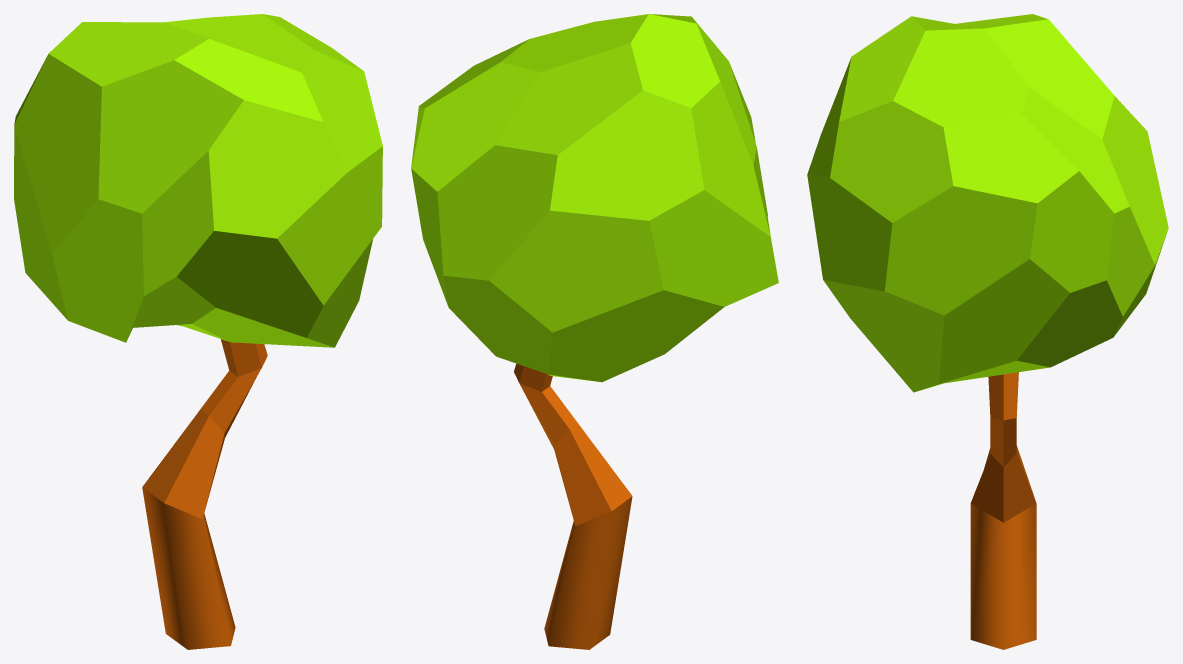
The model's file is tree1.glb.
3 views of the same model, side by side, from view 1: azimuth 30°, elevation 25°; view 2: azimuth 150°, elevation 25°; view 3: azimuth 270°, elevation 25° (orthographic). The views are drawn at different scales.
Visible parts, largest first — view 1: Hedra001, Cylinder002; view 2: Hedra001, Cylinder002; view 3: Hedra001, Cylinder002.
Boxes of the visible parts, x1,y1,x2,y2 form: Hedra001: [14, 14, 382, 347]; Cylinder002: [142, 339, 267, 649]; Hedra001: [411, 14, 778, 382]; Cylinder002: [514, 363, 632, 649]; Hedra001: [807, 14, 1168, 392]; Cylinder002: [970, 372, 1036, 649].
Size of the model in its own units: 0.6579 by 1.21 by 0.6759.
